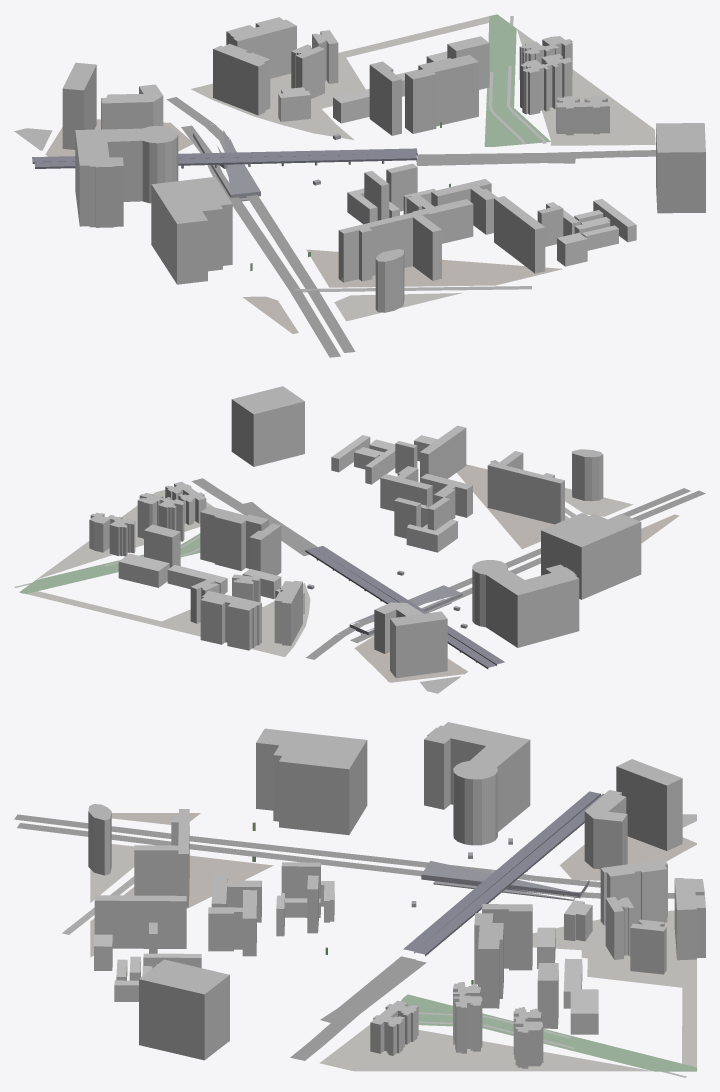
The picture shows the model from 3 angles, top to bottom: view 1: azimuth 30°, elevation 25°; view 2: azimuth 150°, elevation 25°; view 3: azimuth 270°, elevation 25°; orthographic projection. The views are drawn at different scales.
Bounding box in the file's own units: 562 × 69.14 × 570.
